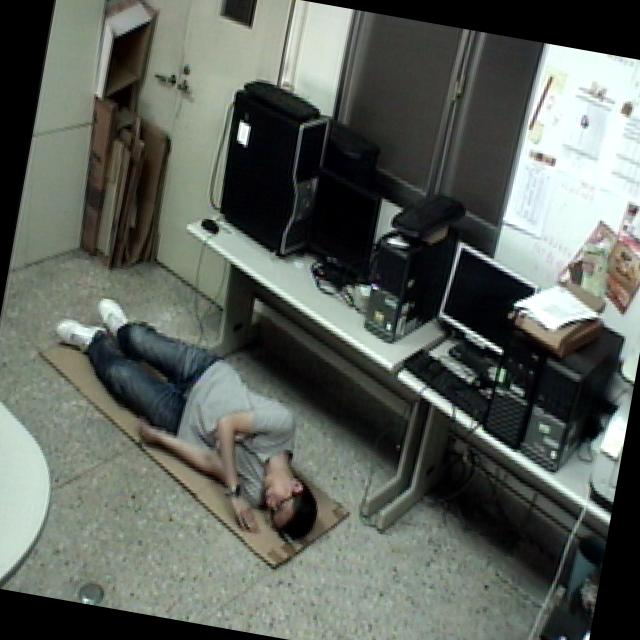lie: (20, 264, 361, 554)
